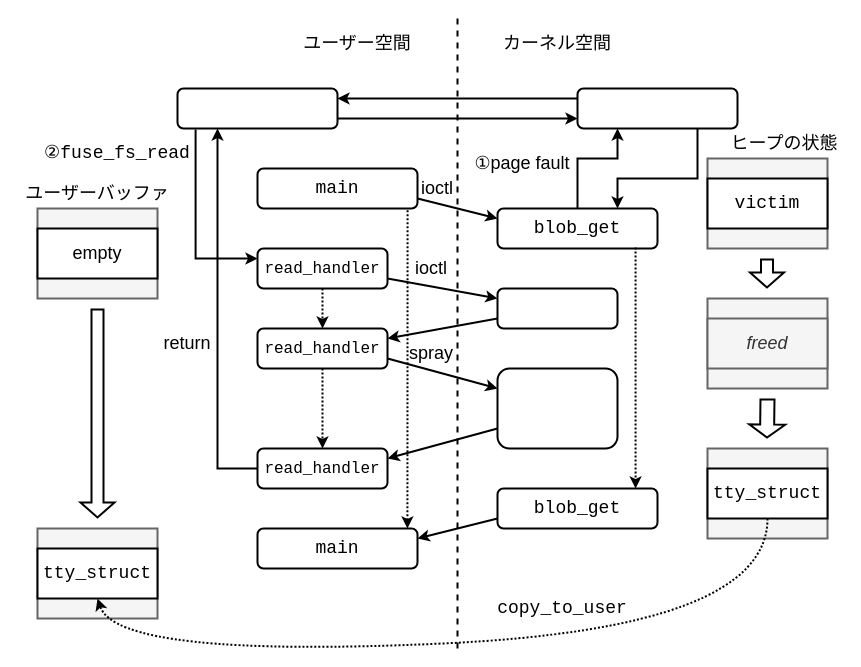
Some shapes in this 861 by 667 pixel diagram are drawn without their labels. The centre of each missing label's shape, as x and y in pixels:
"/dev/fuse" goes at point 657,108.
"alloc tty_struct" goes at point 557,408.
"blob_del" goes at point 557,308.
"fuse_loop" goes at point 257,108.
